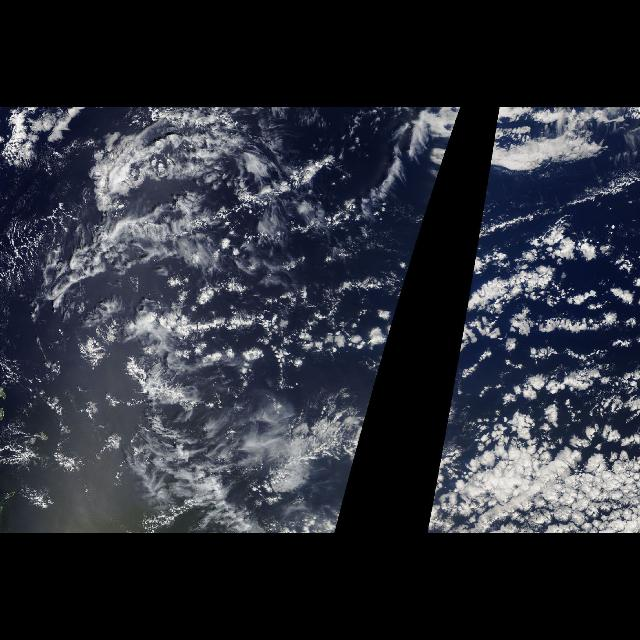Flower: (432, 232, 640, 534)
